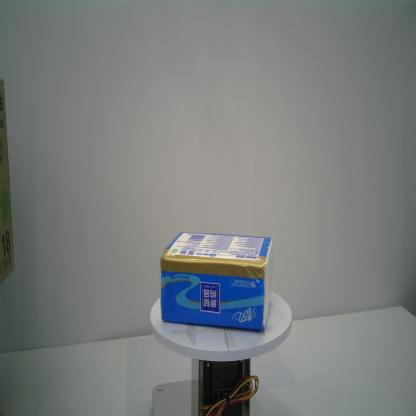Tissue: (158, 230, 274, 332)
